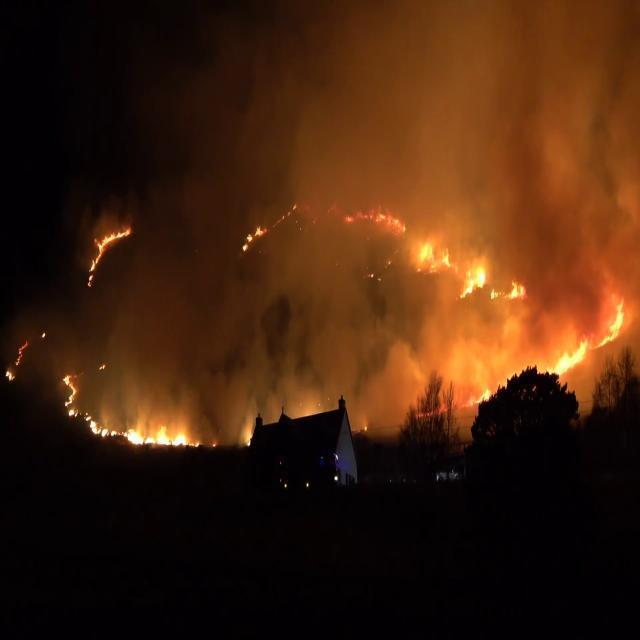Fire: (124, 412, 190, 450), (415, 233, 449, 282), (549, 334, 589, 375), (465, 257, 489, 300)
Smoke: (477, 0, 636, 251)
